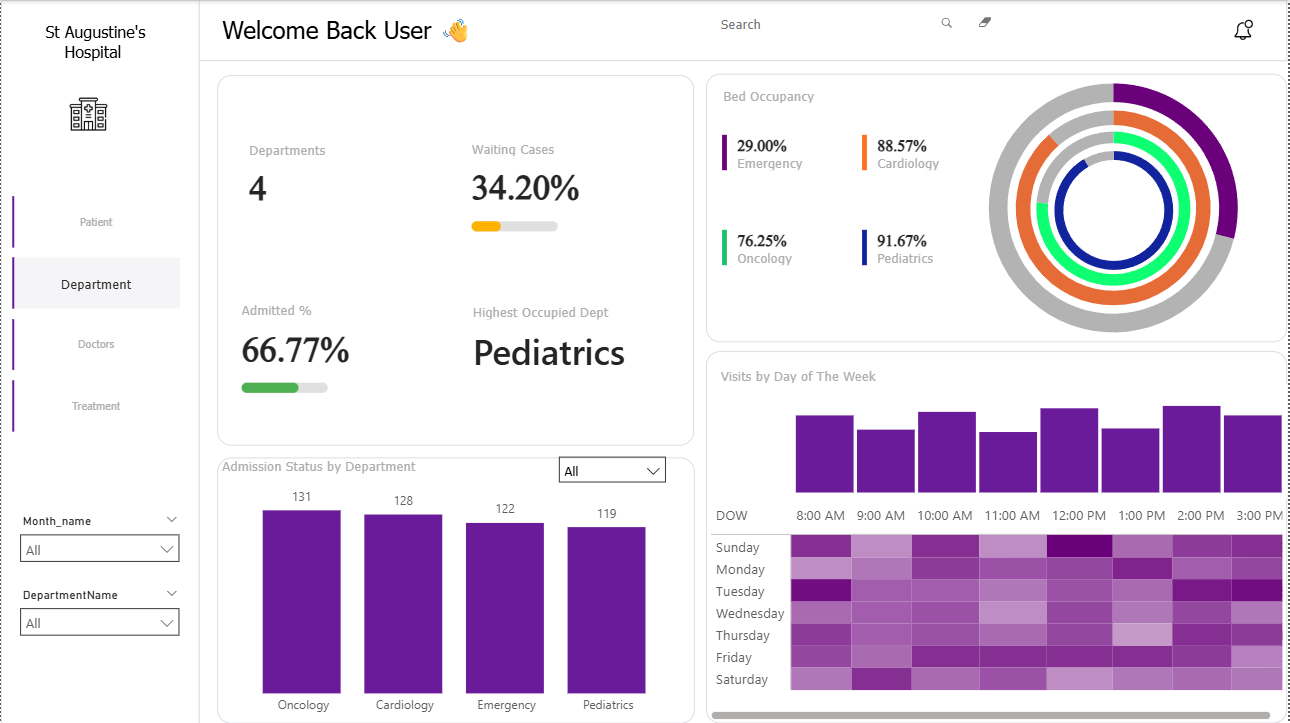

The page's visual inventory and layout, read from the dashboard file:
{"tool":"powerbi","page":{"name":"Department","canvas":[1280,720],"ordinal":1},"visuals":[{"type":"shape","box":[215.4,74.1,474.8,369.1],"z":0},{"type":"shape","box":[215.2,455.3,475.2,265],"z":1000},{"type":"shape","box":[701.6,349.6,578.4,370.7],"z":2000},{"type":"shape","box":[0,0,1280,61],"z":3000},{"type":"shape","box":[0,0,197.6,720.4],"z":4000},{"type":"textbox","box":[215.2,8.7,571,43.5],"z":5000},{"type":"textbox","box":[23.6,17.4,140.6,70.9],"z":6000},{"type":"pageNavigator","box":[11,194.9,167.4,236],"z":7000},{"type":"clusteredColumnChart","fields":{"Y":["CountNonNull(FactTable.VisitID)"],"Category":["FactTable.Fomatted Hour"]},"box":[786.2,381.9,493.9,114.4],"z":8000},{"type":"cardVisual","fields":{"Data":["CountNonNull(Department_Dim.DepartmentID)"]},"box":[230.5,87.8,211.3,171.5],"z":9000},{"type":"cardVisual","fields":{"Data":["Calculations.Waiting %"]},"box":[451.6,103.2,220.2,170.4],"z":10000},{"type":"cardVisual","fields":{"Data":["Min(Department_Dim.DepartmentName)"]},"box":[452.8,256.3,220.2,161.7],"z":11000},{"type":"cardVisual","fields":{"Data":["Calculations.Admitted %"]},"box":[222.3,269,219.6,161.9],"z":12000},{"type":"textbox","box":[711.5,359.5,165.4,43.5],"z":13000},{"type":"shape","box":[701.6,73.4,578.4,267.5],"z":14000},{"type":"columnChart","title":"Admission Status by Department","fields":{"Y":["CountNonNull(FactTable.VisitID)"],"Category":["Department_Dim.DepartmentName"]},"box":[215.2,455.3,475.2,265],"z":15000},{"type":"slicer","fields":{"Values":["FactTable.AdmissionStatus"]},"box":[544.9,444.1,126.9,41.1],"z":16000},{"type":"pivotTable","fields":{"Rows":["Calendar.DOW"],"Values":["CountNonNull(FactTable.VisitID)"],"Columns":["FactTable.Fomatted Hour"]},"box":[701.6,496.3,578.4,225.2],"z":17000},{"type":"donutChart","fields":{"Y":["Calculations.Admitted %","Calculations.Admitted % diff"]},"box":[934.5,46.7,345.8,319.7],"z":17750},{"type":"donutChart","fields":{"Y":["Calculations.Admitted %","Calculations.Admitted % diff"]},"box":[961.9,81,290.9,252.5],"z":18500},{"type":"donutChart","fields":{"Y":["Calculations.Admitted %","Calculations.Admitted % diff"]},"box":[1000.3,107,214.1,201.7],"z":20000},{"type":"donutChart","fields":{"Y":["Calculations.Admitted %","Calculations.Admitted % diff"]},"box":[1029.2,129,157.8,160.5],"z":21000},{"type":"multiRowCard","fields":{"Values":["Calculations.Admitted %"]},"box":[852.1,129,109.8,65.9],"z":23000},{"type":"multiRowCard","fields":{"Values":["Calculations.Admitted %"]},"box":[712.2,223.7,109.8,65.9],"z":24000},{"type":"multiRowCard","fields":{"Values":["Calculations.Admitted %"]},"box":[852.1,223.7,109.8,65.9],"z":25000},{"type":"image","box":[1220.3,14.9,32.3,29.9],"z":26000},{"type":"textbox","box":[713.6,81,164.7,43.9],"z":27000},{"type":"image","box":[63.4,88.3,47.3,51],"z":28000},{"type":"textFilter25A4896A83E0487089E2B90C9AE57C8A","fields":{"field":["Patient_Dim.PatientID"]},"box":[701.6,0,301,41.1],"z":29000},{"type":"slicer","fields":{"Values":["Calendar.Month_name"]},"box":[8.7,506.3,179.1,58.5],"z":30000},{"type":"slicer","fields":{"Values":["Department_Dim.DepartmentName"]},"box":[8.7,579.7,179.1,58.5],"z":31000},{"type":"multiRowCard","fields":{"Values":["Calculations.Admitted %"]},"box":[712.2,129,109.8,65.9],"z":31500},{"type":"card","fields":{"Values":["Calculations.Total admitted MOM"]},"box":[332.1,368.2,105.7,33.6],"z":31501},{"type":"card","fields":{"Values":["Calculations.Total waiting MOM"]},"box":[562.3,207.7,105.7,33.6],"z":31502}]}

Visuals, with their boxes on the page's 1280x720 design canvas (x1, y1, x2, y2). These are canvas units, not pixel positions in the 1290x723 screenshot, which may show the page scaled, cropped or inside an application window:
shape: [215, 74, 690, 443]
shape: [215, 455, 690, 720]
shape: [702, 350, 1280, 720]
shape: [0, 0, 1280, 61]
shape: [0, 0, 198, 720]
textbox: [215, 9, 786, 52]
textbox: [24, 17, 164, 88]
pageNavigator: [11, 195, 178, 431]
clusteredColumnChart - CountNonNull(FactTable.VisitID) x FactTable.Fomatted Hour: [786, 382, 1280, 496]
cardVisual - CountNonNull(Department_Dim.DepartmentID): [230, 88, 442, 259]
cardVisual - Calculations.Waiting %: [452, 103, 672, 274]
cardVisual - Min(Department_Dim.DepartmentName): [453, 256, 673, 418]
cardVisual - Calculations.Admitted %: [222, 269, 442, 431]
textbox: [712, 360, 877, 403]
shape: [702, 73, 1280, 341]
"Admission Status by Department" columnChart: [215, 455, 690, 720]
slicer - FactTable.AdmissionStatus: [545, 444, 672, 485]
pivotTable - Calendar.DOW x CountNonNull(FactTable.VisitID): [702, 496, 1280, 722]
donutChart - Calculations.Admitted % x Calculations.Admitted % diff: [934, 47, 1280, 366]
donutChart - Calculations.Admitted % x Calculations.Admitted % diff: [962, 81, 1253, 334]
donutChart - Calculations.Admitted % x Calculations.Admitted % diff: [1000, 107, 1214, 309]
donutChart - Calculations.Admitted % x Calculations.Admitted % diff: [1029, 129, 1187, 290]
multiRowCard - Calculations.Admitted %: [852, 129, 962, 195]
multiRowCard - Calculations.Admitted %: [712, 224, 822, 290]
multiRowCard - Calculations.Admitted %: [852, 224, 962, 290]
image: [1220, 15, 1253, 45]
textbox: [714, 81, 878, 125]
image: [63, 88, 111, 139]
textFilter25A4896A83E0487089E2B90C9AE57C8A - Patient_Dim.PatientID: [702, 0, 1003, 41]
slicer - Calendar.Month_name: [9, 506, 188, 565]
slicer - Department_Dim.DepartmentName: [9, 580, 188, 638]
multiRowCard - Calculations.Admitted %: [712, 129, 822, 195]
card - Calculations.Total admitted MOM: [332, 368, 438, 402]
card - Calculations.Total waiting MOM: [562, 208, 668, 241]
